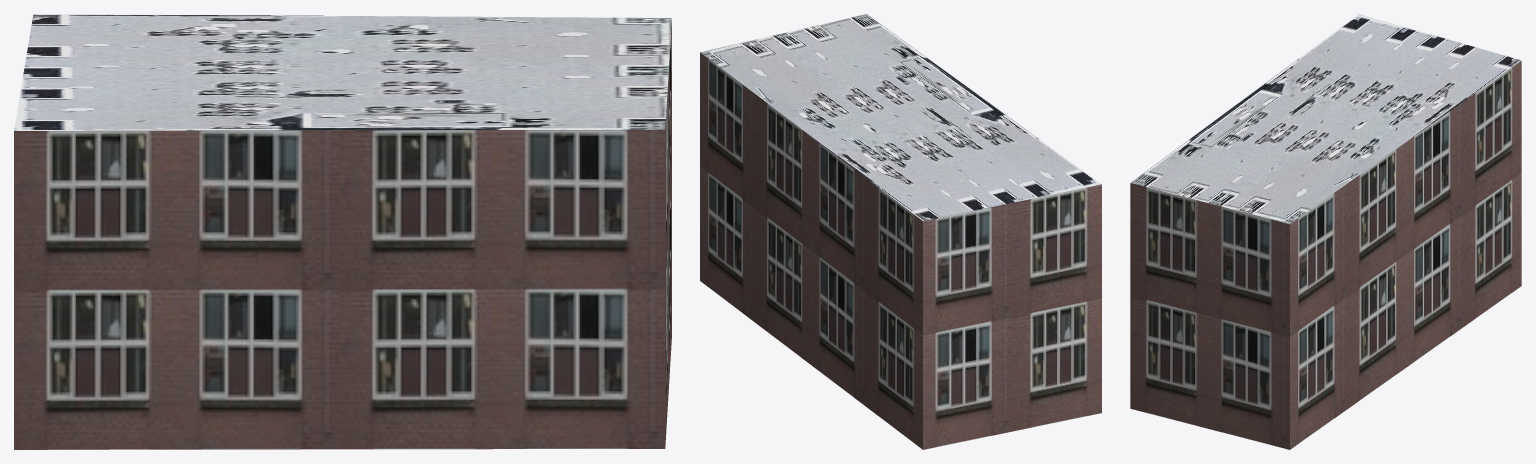
File: ResTex__2857.fbx
The picture shows the model from 3 angles, left to right: view 1: azimuth 30°, elevation 25°; view 2: azimuth 150°, elevation 25°; view 3: azimuth 270°, elevation 25°; orthographic projection. The views are drawn at different scales.
Visible parts, largest first — view 1: CityEngineMaterial_12_m, CityEngineMaterial_2_m; view 2: CityEngineMaterial_12_m, CityEngineMaterial_2_m; view 3: CityEngineMaterial_12_m, CityEngineMaterial_2_m.
Boxes of the visible parts, bbox=[...] form: CityEngineMaterial_12_m: bbox=[14, 20, 671, 449]; CityEngineMaterial_2_m: bbox=[14, 14, 671, 130]; CityEngineMaterial_12_m: bbox=[700, 52, 1101, 449]; CityEngineMaterial_2_m: bbox=[700, 14, 1101, 221]; CityEngineMaterial_12_m: bbox=[1130, 60, 1521, 449]; CityEngineMaterial_2_m: bbox=[1131, 14, 1521, 224].
Bounding box in the file's own units: 11.99 × 6 × 9.43.
Materials: 2 (2 with a texture image).
